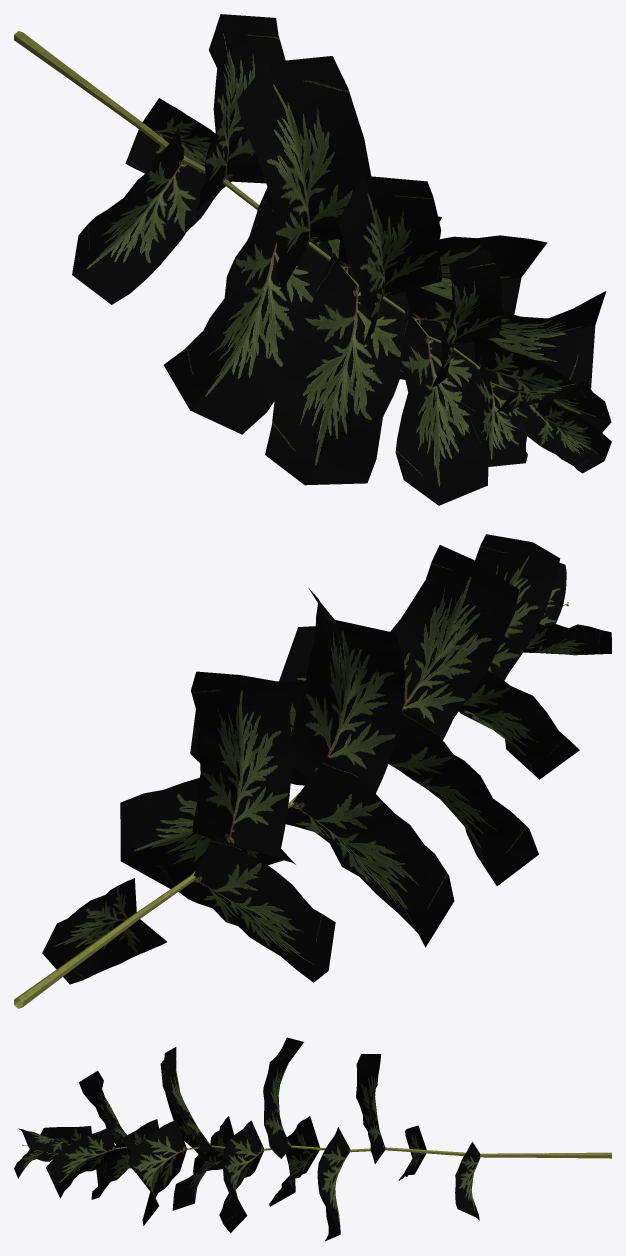
3 renders of one model, top to bottom at view 1: azimuth 30°, elevation 25°; view 2: azimuth 150°, elevation 25°; view 3: azimuth 270°, elevation 25°, orthographic. The views are drawn at different scales.
Parts seen in each view (by area): view 1: GC03_2; view 2: GC03_2; view 3: GC03_2.
Boxes of the visible parts, x1,y1,x2,y2 form: GC03_2: (14,14,611,505); GC03_2: (14,534,611,1008); GC03_2: (14,1037,611,1241).
Size of the model in its own units: 0.3198 by 0.3245 by 0.9527.
Materials: 3 (3 with a texture image).
